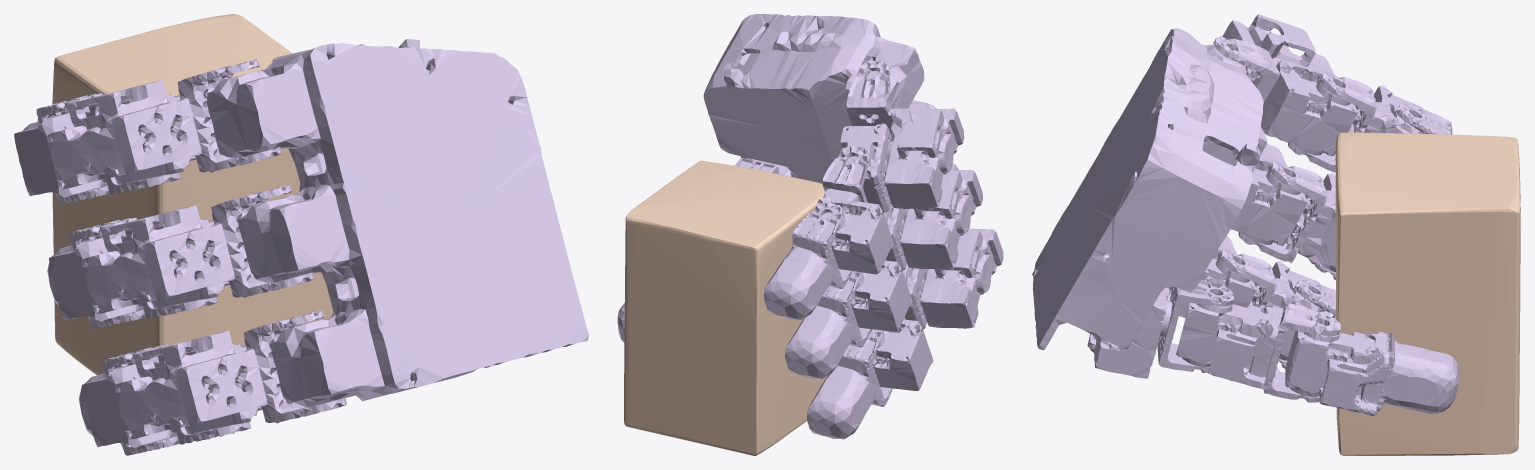
File: e1d16bdd8b2a37-final.glb
3 renders of one model, left to right at view 1: azimuth 30°, elevation 25°; view 2: azimuth 150°, elevation 25°; view 3: azimuth 270°, elevation 25°, orthographic. The views are drawn at different scales.
Visible parts, largest first — view 1: LEAP_hand, world; view 2: LEAP_hand, world; view 3: LEAP_hand, world.
Boxes of the visible parts, x1,y1,x2,y2 form: LEAP_hand: [14, 39, 588, 455]; world: [52, 14, 333, 375]; LEAP_hand: [617, 14, 1003, 439]; world: [624, 160, 826, 455]; LEAP_hand: [1032, 14, 1459, 416]; world: [1335, 132, 1520, 455].
Bounding box in the file's own units: 0.1543 × 0.1789 × 0.2054.
